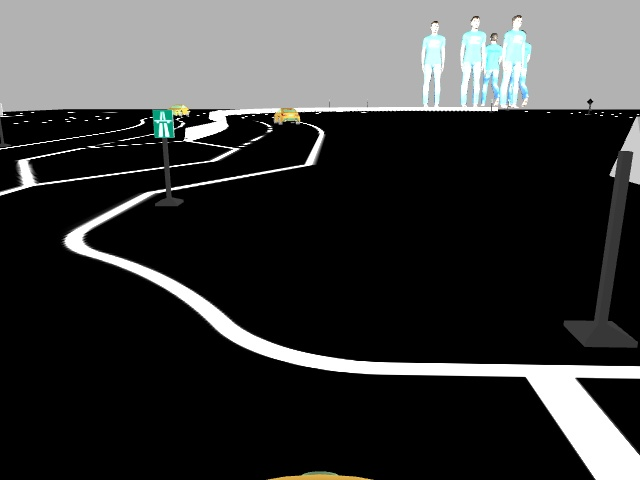HighwayEntrance: (148, 107, 178, 139)
